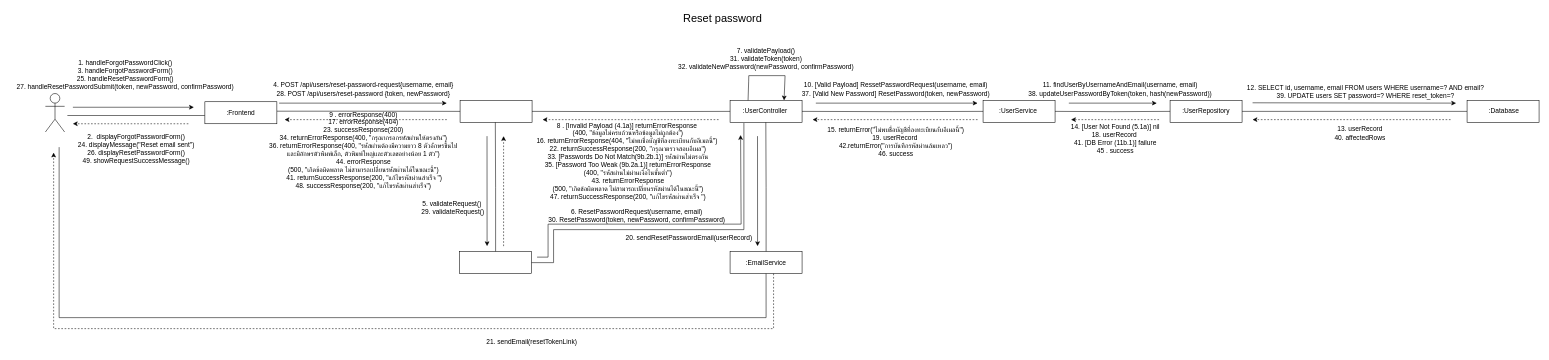
This 1549x360 diagram has some shape labels left out. The centre of each missing label's shape, as x and y in pixels:
":Middleware" belongs at (495,262).
":Router" belongs at (496,111).
"User" belongs at (55,112).
